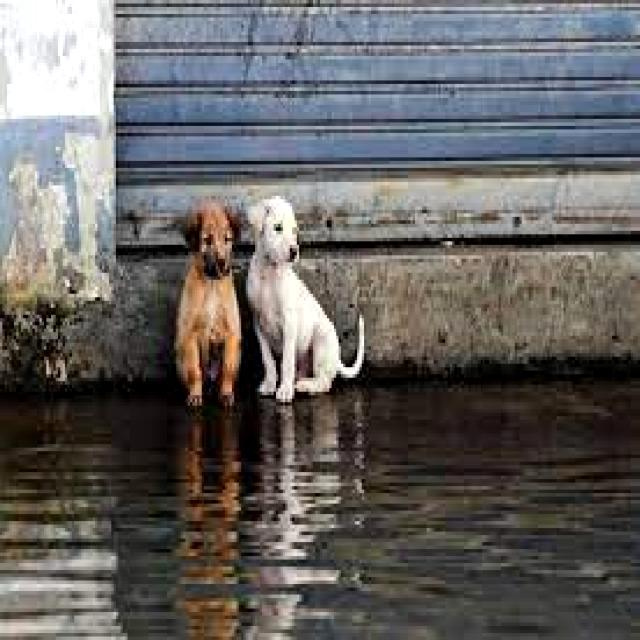dog: (238, 193, 386, 408), (151, 194, 256, 414)
